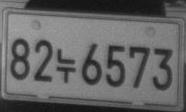2: (32, 38, 53, 82)
3: (151, 47, 173, 90)
5: (105, 44, 126, 87)
6: (80, 43, 102, 86)
7: (128, 45, 151, 88)
8: (9, 37, 31, 81)
누: (55, 48, 76, 83)
